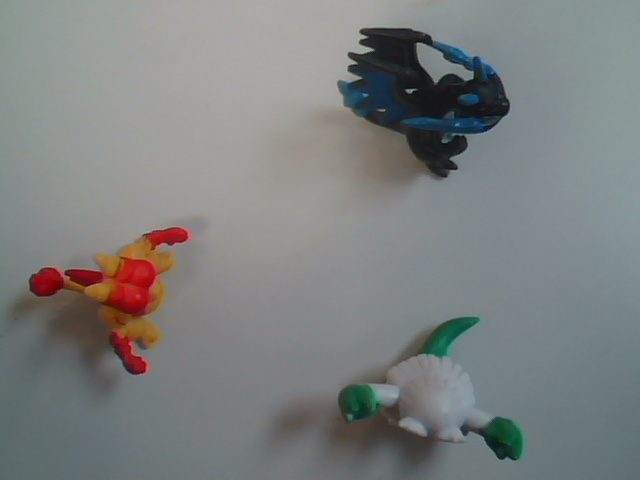abomasnow: (329, 295, 562, 480)
charizard: (332, 14, 553, 224)
magmar: (21, 215, 238, 408)
